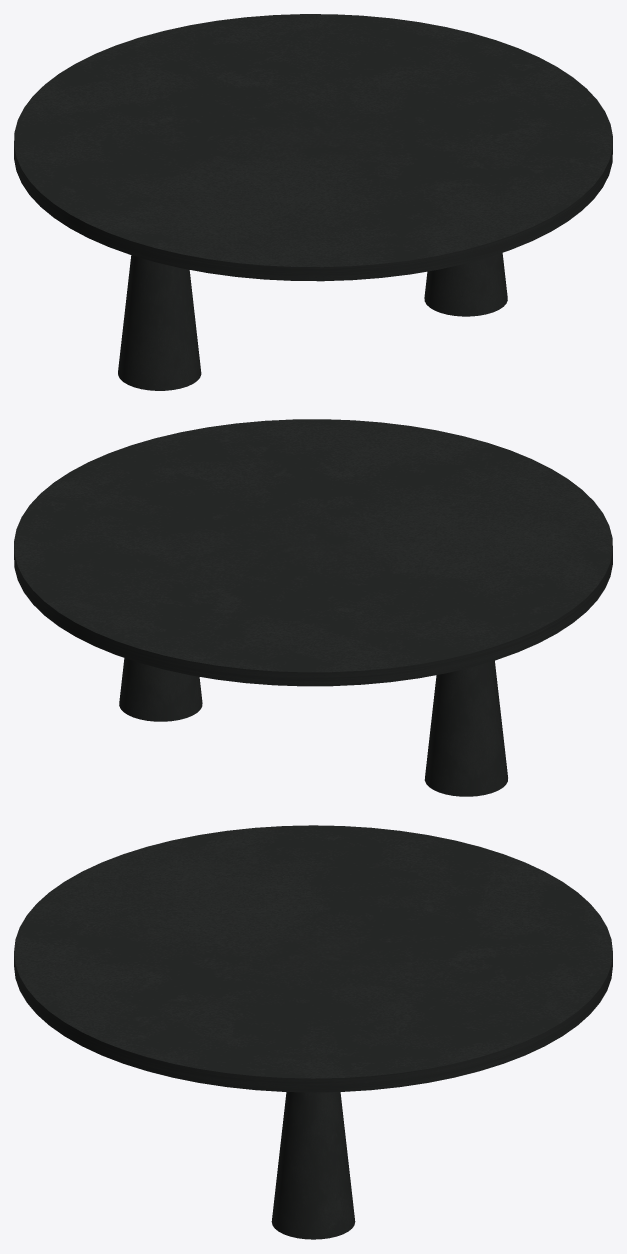
File: darknight_oval_standard_pebble.glb
3 renders of one model, top to bottom at view 1: azimuth 30°, elevation 25°; view 2: azimuth 150°, elevation 25°; view 3: azimuth 270°, elevation 25°, orthographic.
Parts seen in each view (by area): view 1: darknight_ovalstandard_pebble; view 2: darknight_ovalstandard_pebble; view 3: darknight_ovalstandard_pebble.
Part boxes in pixels (x1,y1,x2,y2): darknight_ovalstandard_pebble: [14, 14, 612, 390]; darknight_ovalstandard_pebble: [14, 419, 612, 796]; darknight_ovalstandard_pebble: [14, 825, 612, 1239].
Size of the model in its own units: 6.97 by 2.51 by 6.97.
Materials: 1 (1 with a texture image).
